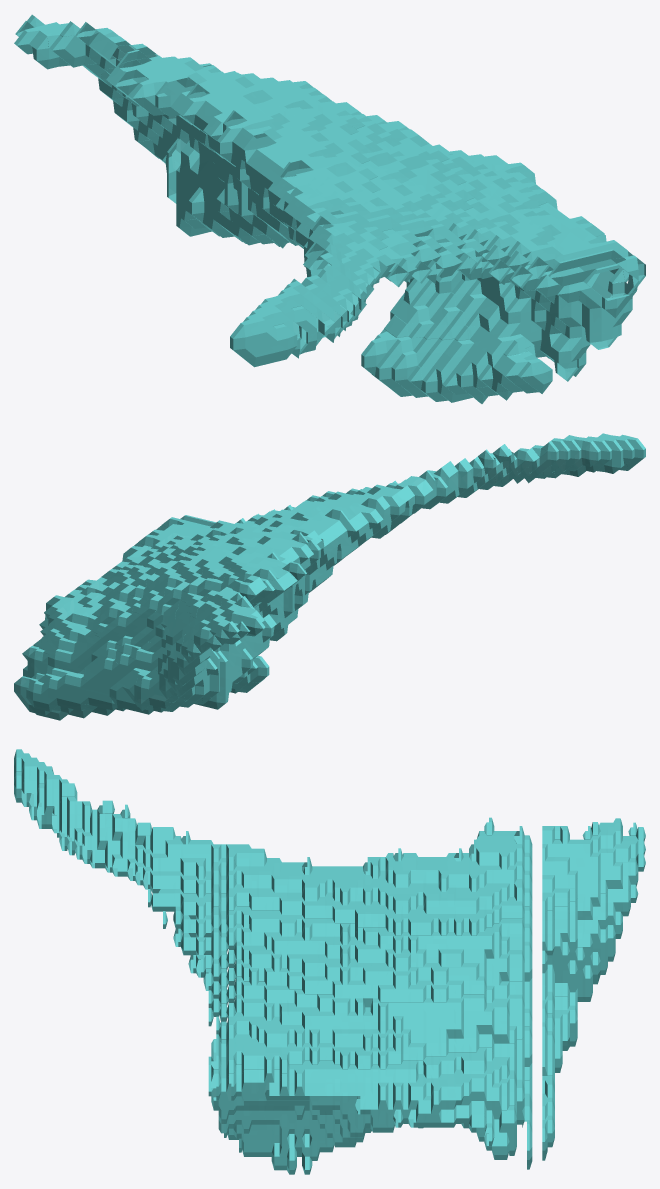
The model's file is SVV_BWM-VL01.gltf.
3 views of the same model, one above another, from view 1: azimuth 30°, elevation 25°; view 2: azimuth 150°, elevation 25°; view 3: azimuth 270°, elevation 25° (orthographic). The views are drawn at different scales.
Parts seen in each view (by area): view 1: BWM-VL01; view 2: BWM-VL01; view 3: BWM-VL01.
Part boxes in pixels (box(x1,y1,x2,y2)): BWM-VL01: box(14, 14, 645, 403); BWM-VL01: box(14, 433, 645, 720); BWM-VL01: box(14, 749, 645, 1174).
Bounding box in the file's own units: 26636 × 13310 × 32017.
